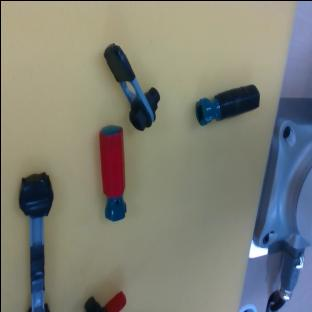part_1_bad: (92, 35, 171, 133)
part_1_good: (82, 289, 128, 312)
part_2_bad: (191, 80, 263, 126)
part_2_good: (98, 124, 127, 220)
part_3_bad: (19, 171, 53, 311)
